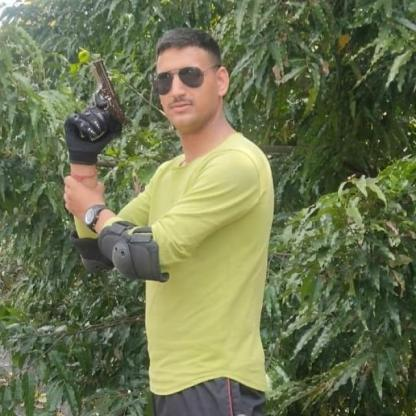handgun: (70, 56, 130, 144)
